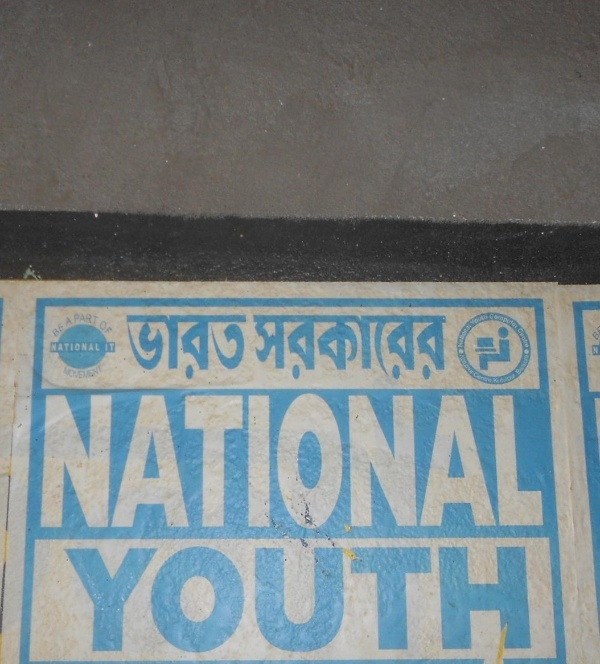text: (49, 390, 64, 530), (65, 390, 80, 530), (81, 390, 96, 530), (97, 390, 112, 530), (113, 390, 128, 530), (129, 390, 144, 530), (145, 390, 160, 530), (161, 390, 176, 530), (177, 390, 192, 530), (193, 390, 208, 530), (209, 390, 224, 530), (225, 390, 240, 530), (241, 390, 256, 530), (257, 390, 272, 530), (273, 390, 288, 530), (289, 390, 304, 530), (305, 390, 320, 530), (321, 390, 336, 530), (337, 390, 352, 530), (353, 390, 368, 530), (369, 390, 384, 530), (385, 390, 400, 530), (401, 390, 416, 530), (417, 390, 432, 530), (433, 390, 448, 530), (449, 390, 464, 530), (465, 390, 480, 530), (481, 390, 496, 530), (497, 390, 512, 530), (513, 390, 528, 530), (529, 390, 543, 530), (81, 547, 96, 651), (97, 547, 112, 651), (113, 547, 128, 651), (129, 547, 144, 651), (145, 547, 160, 651), (161, 547, 176, 651), (177, 547, 192, 651), (193, 547, 208, 651), (209, 547, 224, 651), (225, 547, 240, 651), (241, 547, 256, 651), (257, 547, 272, 651), (273, 547, 288, 651), (289, 547, 304, 651), (305, 547, 320, 651), (321, 547, 336, 651), (337, 547, 352, 651), (353, 547, 368, 651), (369, 547, 384, 651), (385, 547, 400, 651), (401, 547, 416, 651), (417, 547, 432, 651), (433, 547, 448, 651), (449, 547, 464, 651), (465, 547, 480, 651), (481, 547, 496, 651), (497, 547, 512, 651), (513, 547, 528, 651), (39, 390, 48, 530), (68, 547, 80, 651), (577, 303, 592, 379), (465, 312, 480, 386), (481, 312, 496, 386), (497, 312, 512, 386), (513, 312, 528, 386), (257, 315, 272, 381), (273, 315, 288, 381), (289, 315, 304, 381), (305, 315, 320, 381), (321, 315, 336, 381), (337, 315, 352, 381), (353, 315, 368, 381), (369, 315, 384, 381), (385, 315, 400, 381), (401, 315, 416, 381), (417, 315, 432, 381), (433, 315, 448, 381), (563, 303, 576, 379), (65, 313, 80, 377), (81, 313, 96, 377), (97, 313, 112, 377), (129, 315, 144, 379), (145, 315, 160, 379), (161, 315, 176, 379), (177, 315, 192, 379), (193, 315, 208, 379), (209, 315, 224, 379), (225, 315, 240, 379), (529, 547, 538, 651), (53, 313, 64, 377), (241, 315, 250, 379), (529, 312, 536, 386), (593, 303, 599, 379), (458, 312, 464, 386), (125, 315, 128, 379), (254, 315, 256, 381), (113, 313, 115, 377), (449, 315, 450, 381)
